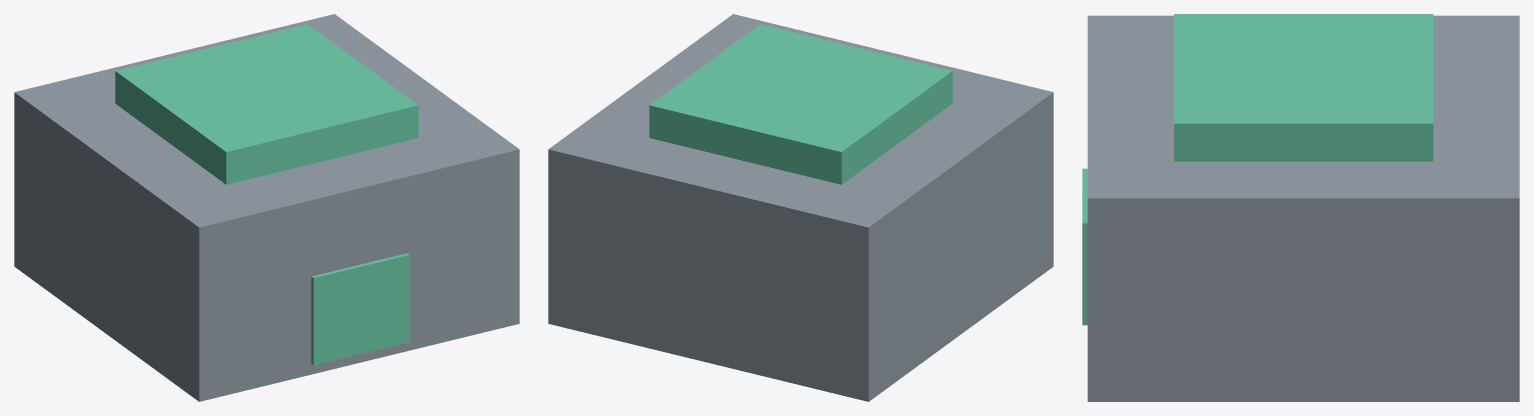
The model's file is CO_WarFactory_LOD0.glb.
The picture shows the model from 3 angles, left to right: view 1: azimuth 30°, elevation 25°; view 2: azimuth 150°, elevation 25°; view 3: azimuth 270°, elevation 25°; orthographic projection. The views are drawn at different scales.
Visible parts, largest first — view 1: EntranceGate; view 2: EntranceGate; view 3: EntranceGate.
Boxes of the visible parts, bbox=[...] form: EntranceGate: bbox=[14, 14, 519, 401]; EntranceGate: bbox=[548, 14, 1053, 401]; EntranceGate: bbox=[1082, 14, 1519, 401].
Size of the model in its own units: 800 by 494 by 810.
